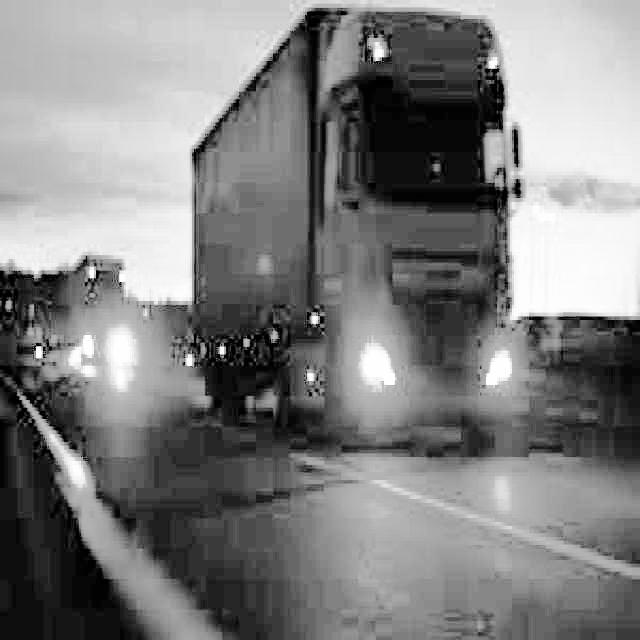Truck: (190, 4, 527, 450)
